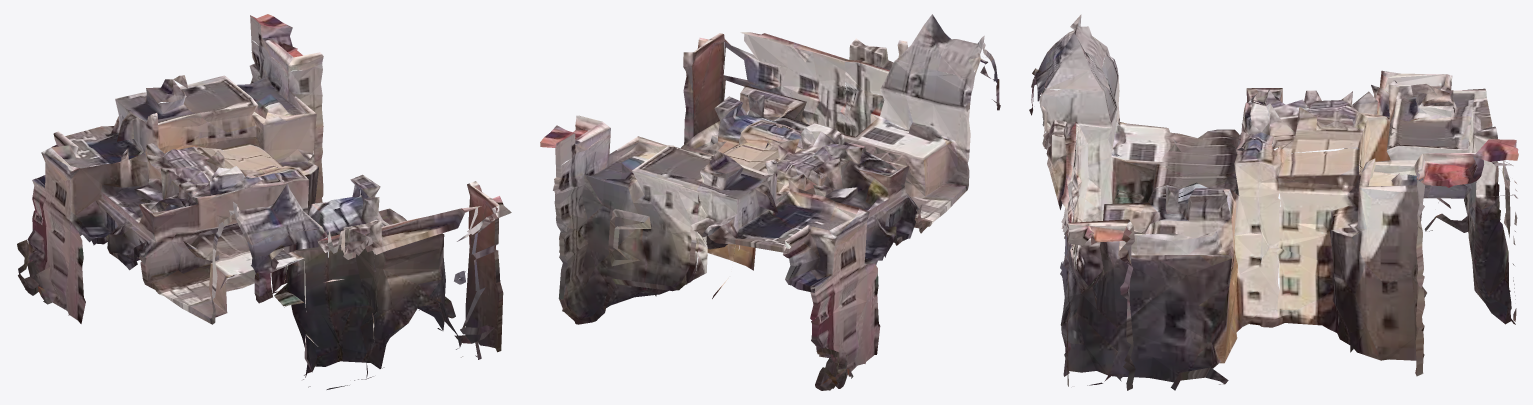
3 renders of one model, left to right at view 1: azimuth 30°, elevation 25°; view 2: azimuth 150°, elevation 25°; view 3: azimuth 270°, elevation 25°, orthographic. The views are drawn at different scales.
Parts seen in each view (by area): view 1: Mesh_0; view 2: Mesh_0; view 3: Mesh_0.
Part boxes in pixels (x1,y1,x2,y2): Mesh_0: [17, 14, 511, 389]; Mesh_0: [540, 14, 1000, 390]; Mesh_0: [1029, 14, 1518, 390].
Bounding box in the file's own units: 33.66 × 22.76 × 41.42.
Materials: 1 (1 with a texture image).
